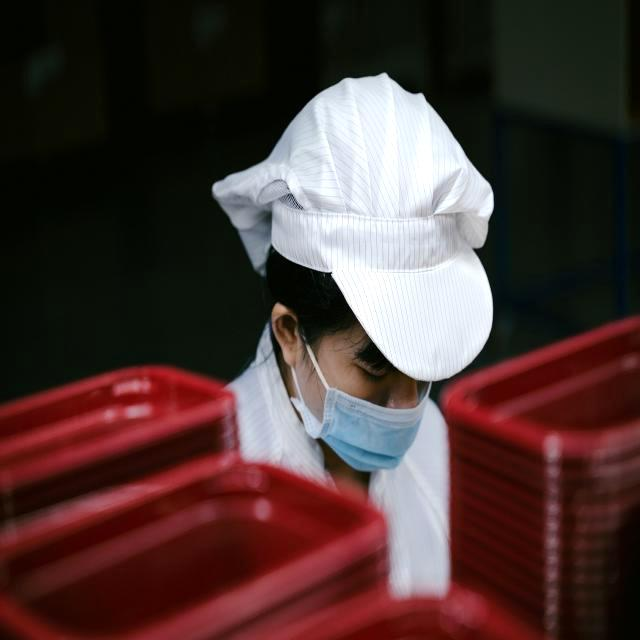no_hard_hat: (213, 74, 494, 381)
person: (227, 248, 450, 596)
